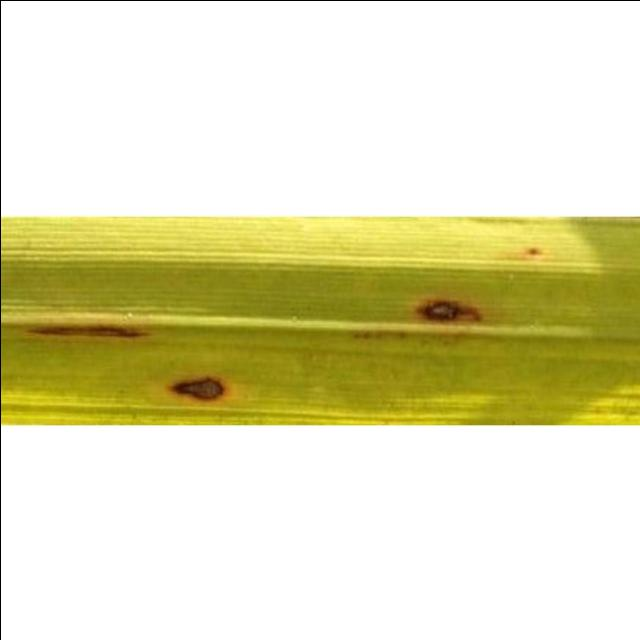Brown spot: (0, 200, 640, 446)
